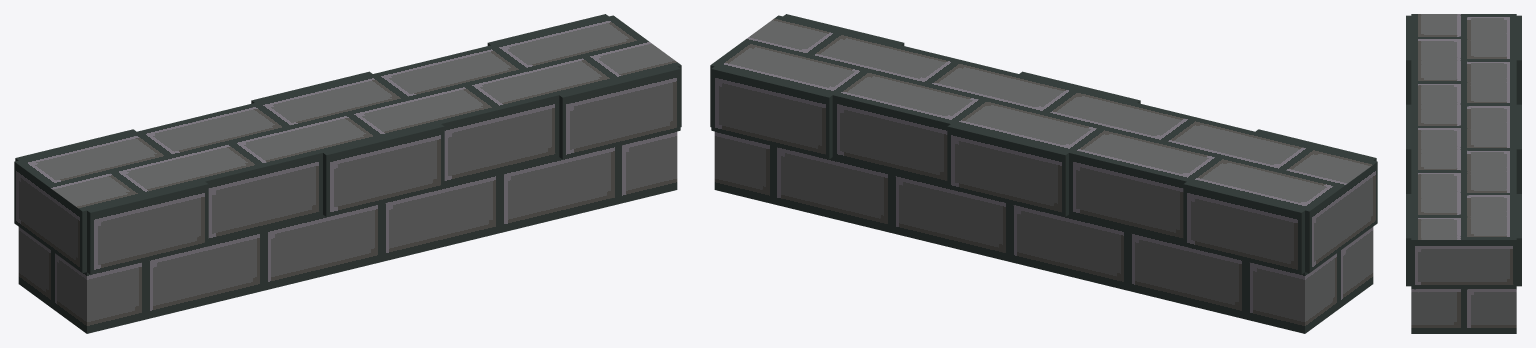
Rendered from BrickCube.fbx.
The picture shows the model from 3 angles, left to right: view 1: azimuth 30°, elevation 25°; view 2: azimuth 150°, elevation 25°; view 3: azimuth 270°, elevation 25°; orthographic projection. The views are drawn at different scales.
Visible parts, largest first — view 1: BrickBlock; view 2: BrickBlock; view 3: BrickBlock.
Part boxes in pixels (<box>): BrickBlock: <box>14,14,681,333</box>; BrickBlock: <box>710,14,1377,333</box>; BrickBlock: <box>1406,14,1521,333</box>.
Size of the model in its own units: 1015 by 200 by 220.
